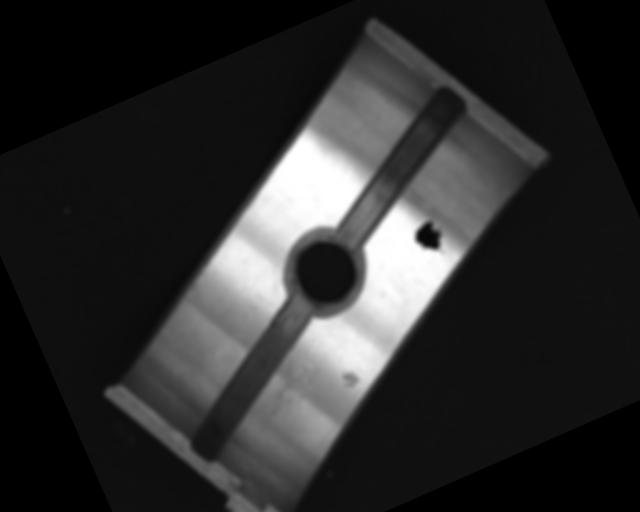blot: (408, 215, 452, 262)
bruise: (338, 364, 367, 391)
gap: (151, 290, 349, 466), (305, 84, 498, 251)
hole: (275, 222, 374, 321)
scratch: (231, 347, 327, 436)
